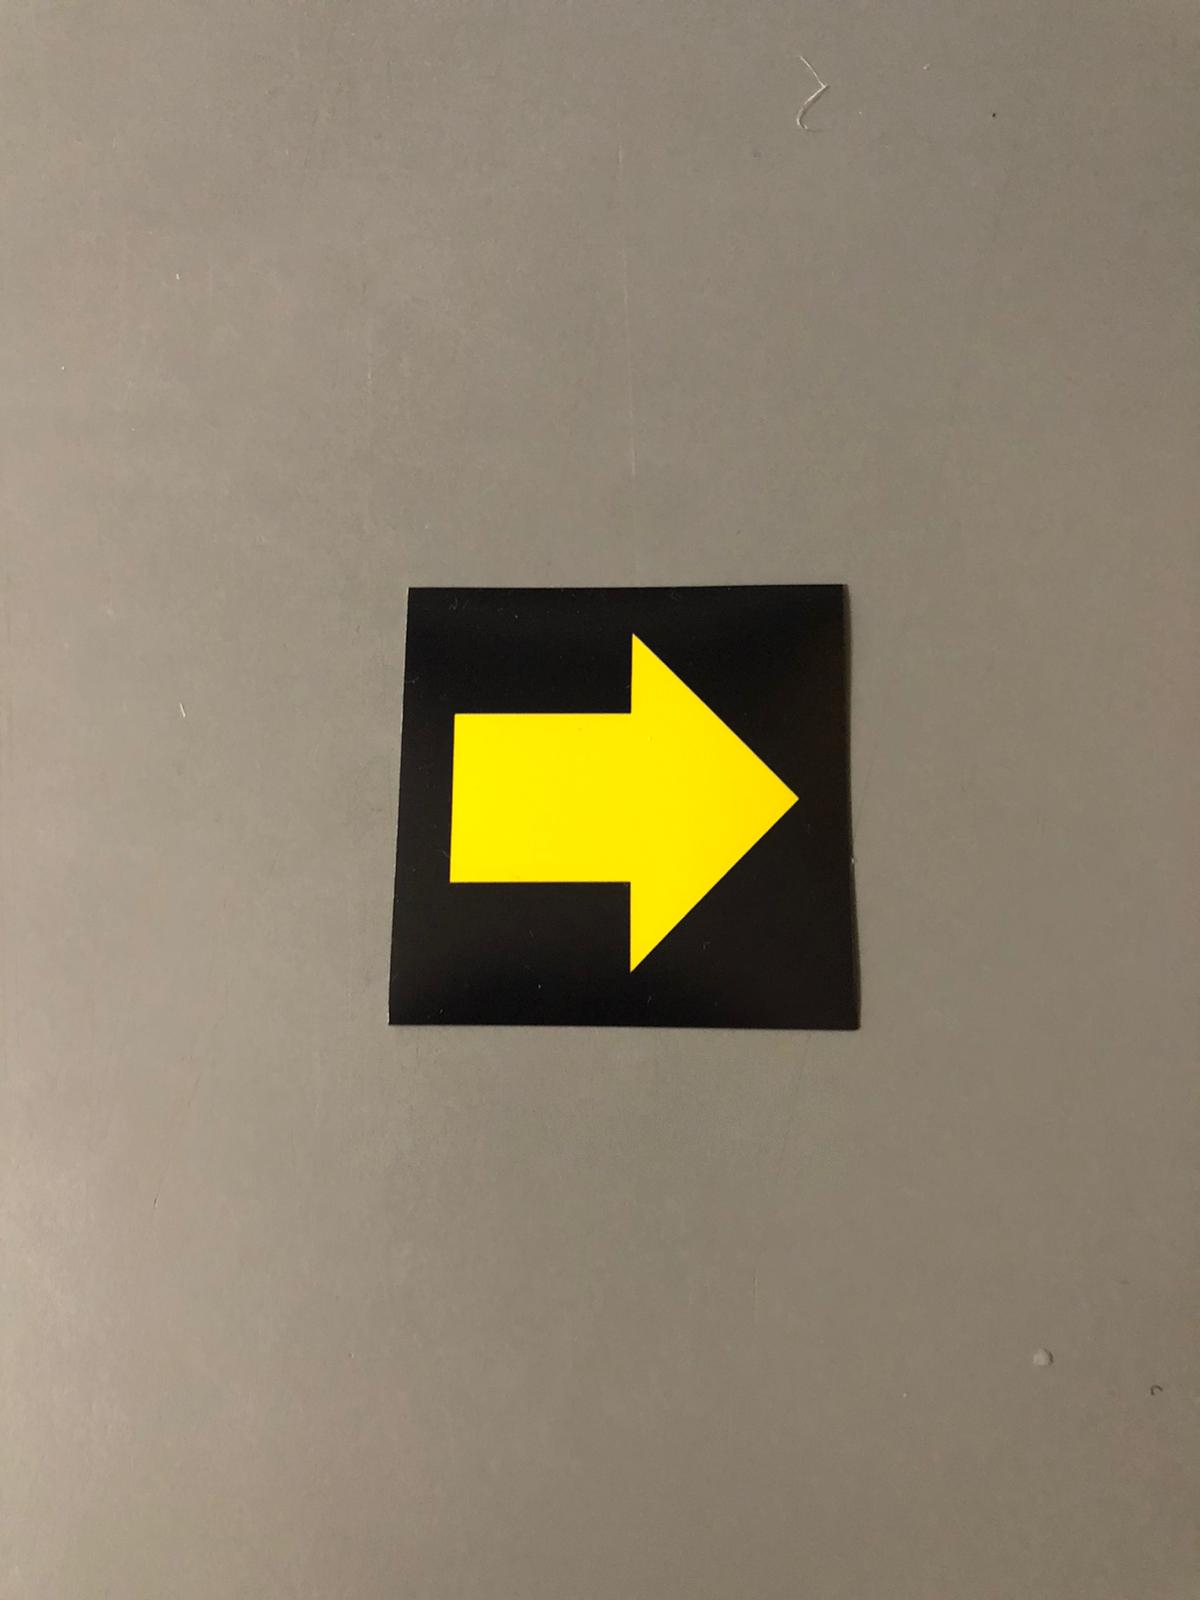Right Arrow: (424, 598, 838, 1039)
